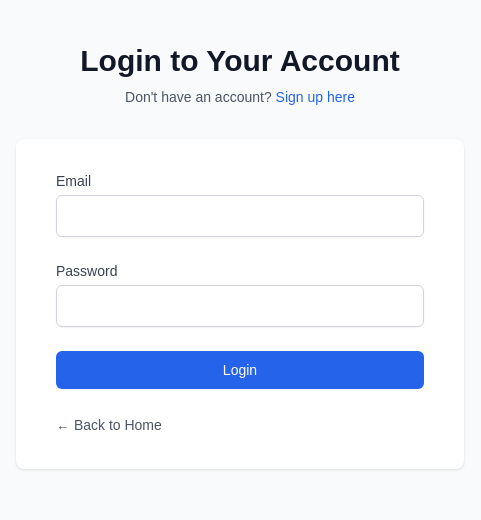
Scenario: LoginPage › should display error message on failed login
Type "test@example.com" into the field labelled "Email" at coordinates (240, 216), box x1=56 y1=195 x2=424 y2=237
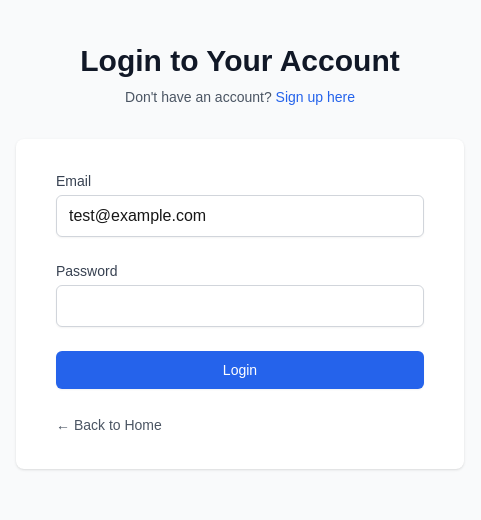
Type "wrongpassword" into the password field labelled "Password" at coordinates (240, 306), box x1=56 y1=285 x2=424 y2=327
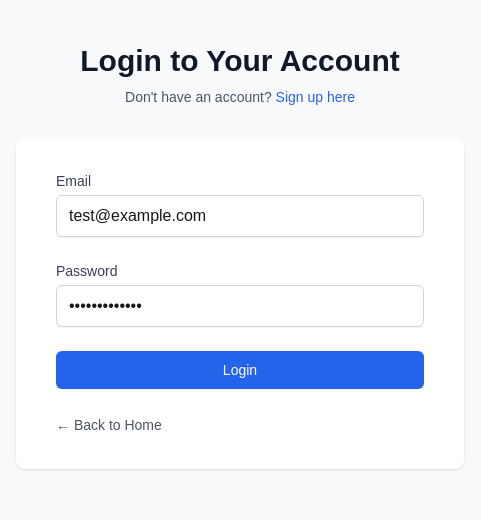
Click the button "Login" at coordinates (240, 370), box x1=56 y1=351 x2=424 y2=389
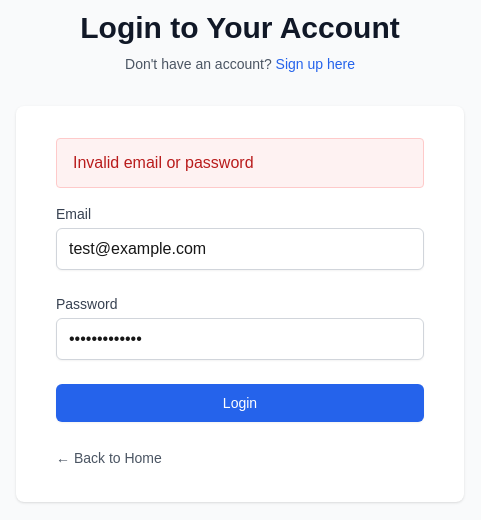
Now the text "Invalid email or password" is shown, box x1=56 y1=138 x2=424 y2=188
